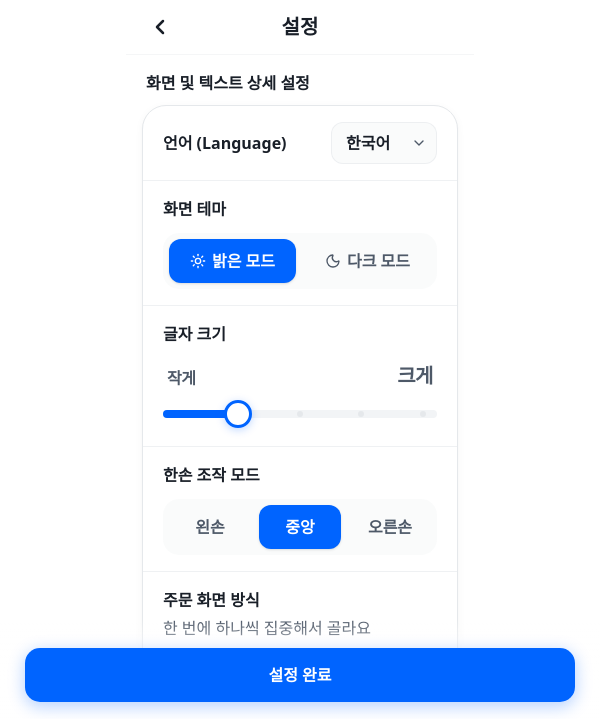
Test: Settings i18n English Mode › dynamically switches language between Korean and English upon dropdown selection
The image size is (601, 719).
Expected: the heading "화면 및 텍스트 상세 설정" is shown, [146,72,310,94]
Select "English" in the dropdown named "언어 (Language)" at (384,143), box [331,122,437,164]
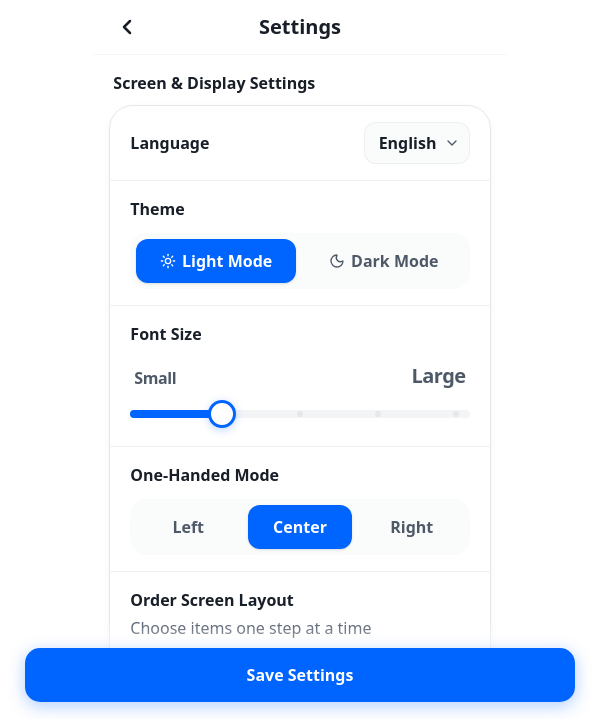
Now the heading "Screen & Display Settings" is shown, box [113,72,315,94]
Select "한국어" in the dropdown named "Language" at (417,143), box [364,122,470,164]
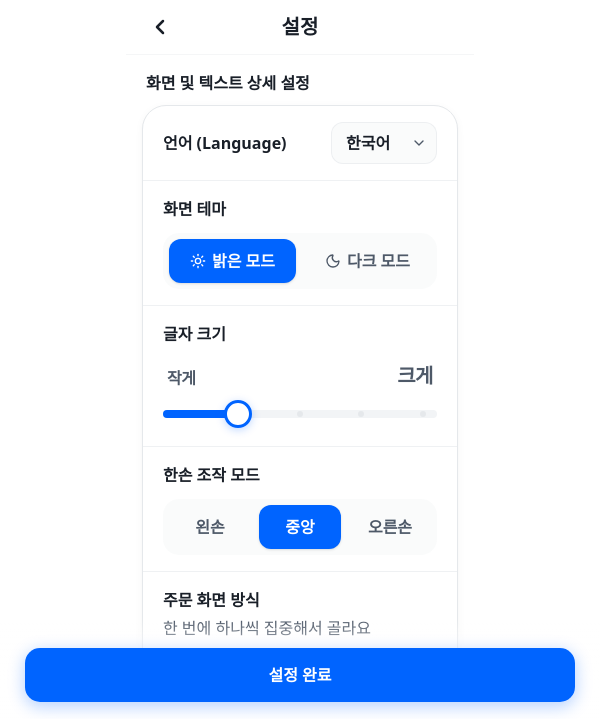
Now the heading "화면 및 텍스트 상세 설정" is shown, box [146,72,310,94]
